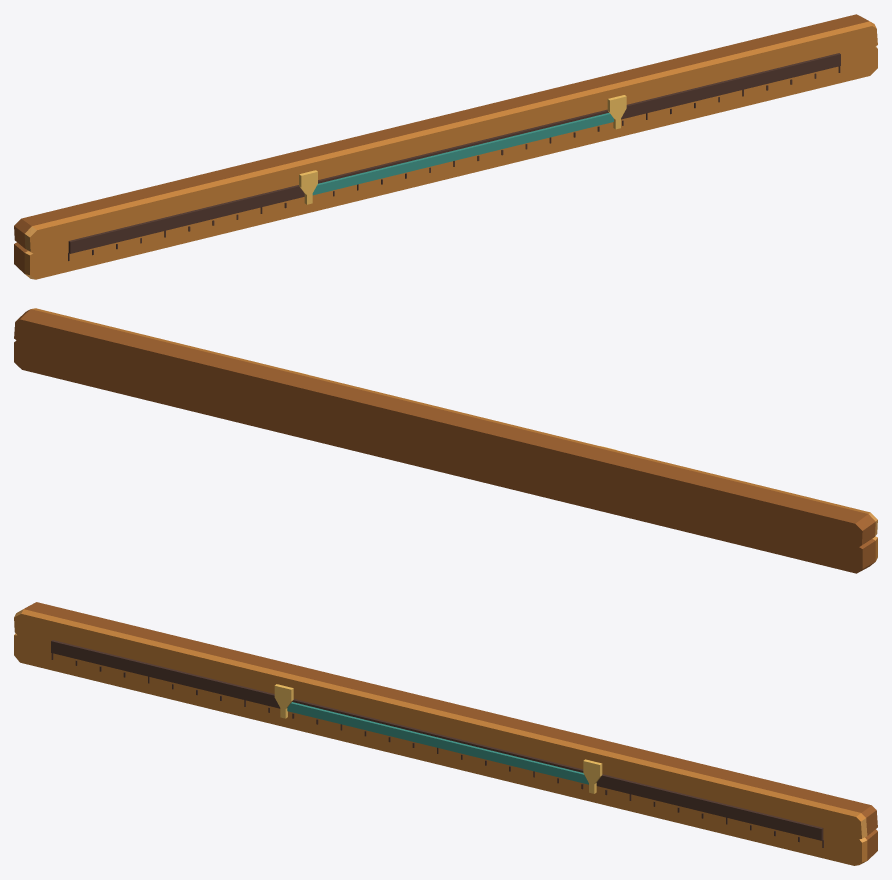
File: LoopRange.fbx
The picture shows the model from 3 angles, top to bottom: view 1: azimuth 30°, elevation 25°; view 2: azimuth 150°, elevation 25°; view 3: azimuth 330°, elevation 25°; orthographic projection.
Parts seen in each view (by area): view 1: Stone.015, Rail.001, RangeFill; view 2: Stone.015; view 3: Stone.015, Rail.001, RangeFill.
Boxes of the visible parts, x1,y1,x2,y2 form: Stone.015: [14, 14, 877, 279]; Rail.001: [68, 53, 840, 253]; RangeFill: [312, 113, 613, 195]; Stone.015: [14, 308, 877, 573]; Stone.015: [14, 602, 877, 865]; Rail.001: [51, 640, 823, 840]; RangeFill: [287, 702, 588, 784].
Bounding box in the file's own units: 0.91 × 0.054 × 0.039.
